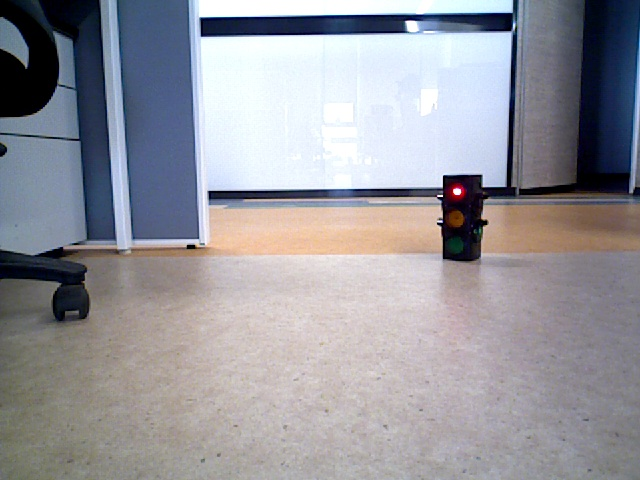red: (444, 177, 474, 257)
